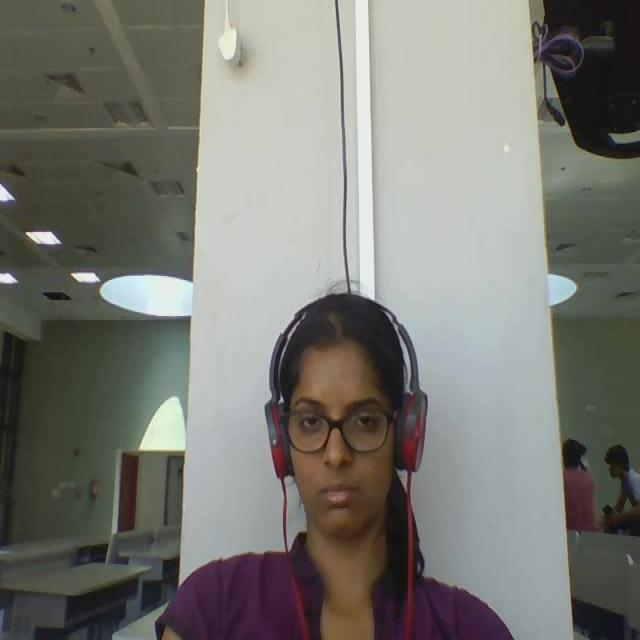Engaged: (233, 289, 479, 572)
